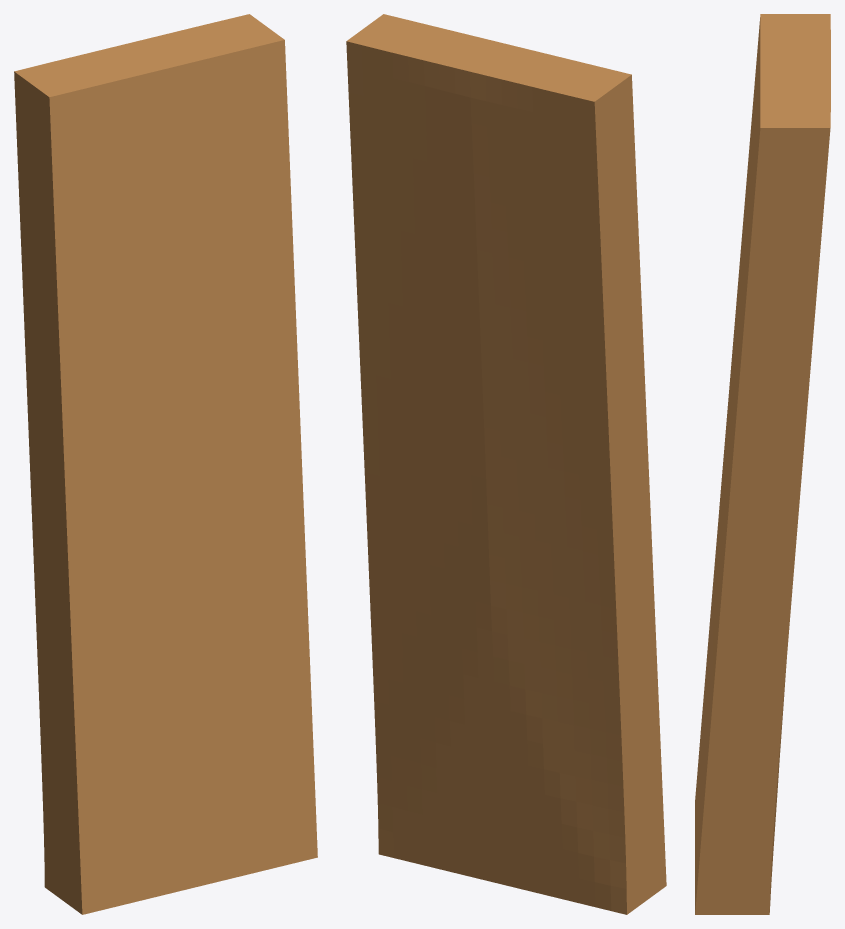
Rendered from TempleEntryDeformableSand.fbx.
The picture shows the model from 3 angles, left to right: view 1: azimuth 30°, elevation 25°; view 2: azimuth 150°, elevation 25°; view 3: azimuth 270°, elevation 25°; orthographic projection. The views are drawn at different scales.
Parts seen in each view (by area): view 1: TempleEntrySandRoom; view 2: TempleEntrySandRoom; view 3: TempleEntrySandRoom.
Boxes of the visible parts, x1,y1,x2,y2 form: TempleEntrySandRoom: [14, 14, 317, 914]; TempleEntrySandRoom: [346, 14, 666, 914]; TempleEntrySandRoom: [695, 14, 830, 914].
Bounding box in the file's own units: 144 × 72.37 × 462.
